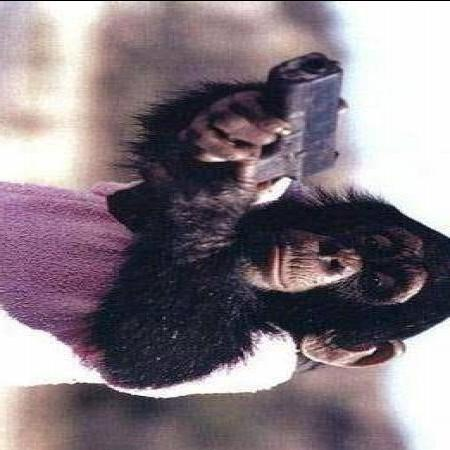Pistol: (253, 49, 346, 184)
